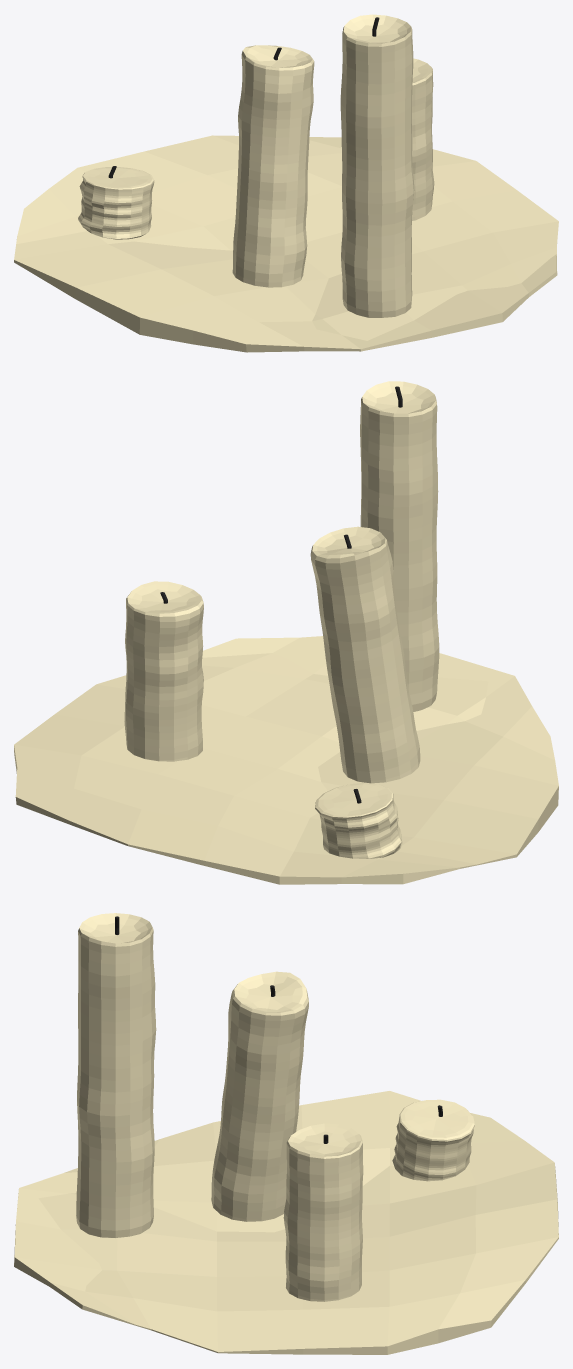
The model's file is Candles.fbx.
The picture shows the model from 3 angles, top to bottom: view 1: azimuth 30°, elevation 25°; view 2: azimuth 150°, elevation 25°; view 3: azimuth 270°, elevation 25°; orthographic projection. The views are drawn at different scales.
Parts seen in each view (by area): view 1: Плоскость, Цилиндр, Цилиндр.004, Цилиндр.006, Цилиндр.002; view 2: Плоскость, Цилиндр.004, Цилиндр, Цилиндр.002, Цилиндр.006; view 3: Плоскость, Цилиндр, Цилиндр.004, Цилиндр.002, Цилиндр.006.
Part boxes in pixels (<box>): Плоскость: <box>14,135,558,352</box>; Цилиндр: <box>340,14,414,317</box>; Цилиндр.004: <box>232,45,314,287</box>; Цилиндр.006: <box>78,167,154,239</box>; Цилиндр.002: <box>412,58,434,220</box>; Плоскость: <box>14,636,558,884</box>; Цилиндр.004: <box>310,526,420,783</box>; Цилиндр: <box>360,381,439,711</box>; Цилиндр.002: <box>124,581,203,761</box>; Цилиндр.006: <box>315,782,402,858</box>; Плоскость: <box>14,1091,558,1354</box>; Цилиндр: <box>76,913,156,1237</box>; Цилиндр.004: <box>211,971,308,1221</box>; Цилиндр.002: <box>283,1123,363,1301</box>; Цилиндр.006: <box>392,1099,474,1181</box>.
Size of the model in its own units: 51.21 by 32.63 by 48.4.
